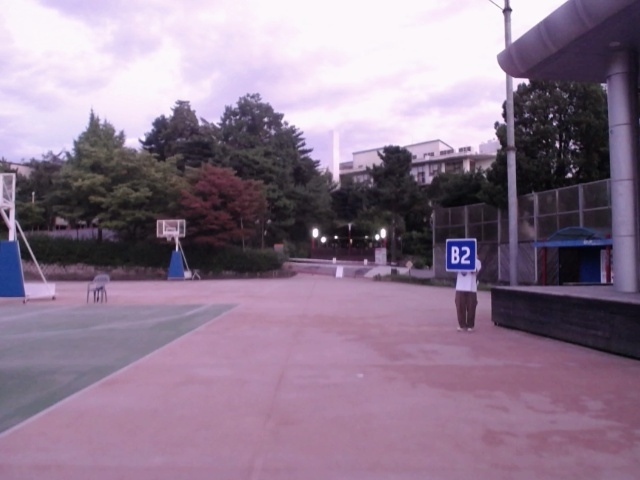delivery_b2: (446, 237, 478, 273)
